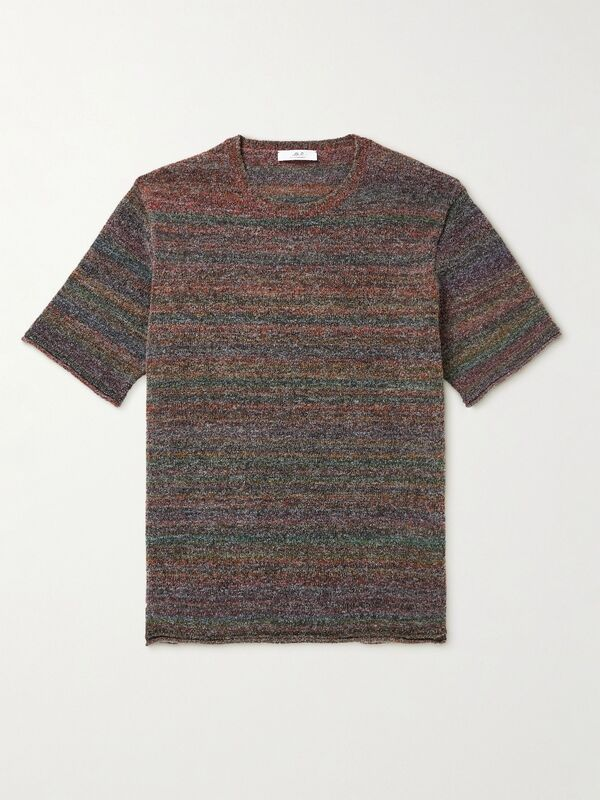tshirt: (18, 116, 563, 647)
